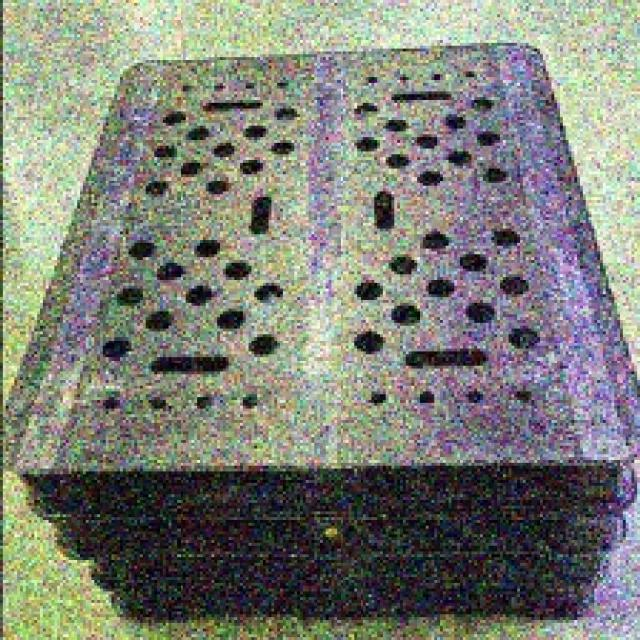igps: (0, 36, 640, 528), (13, 490, 633, 565), (75, 541, 618, 598), (103, 580, 602, 630)
